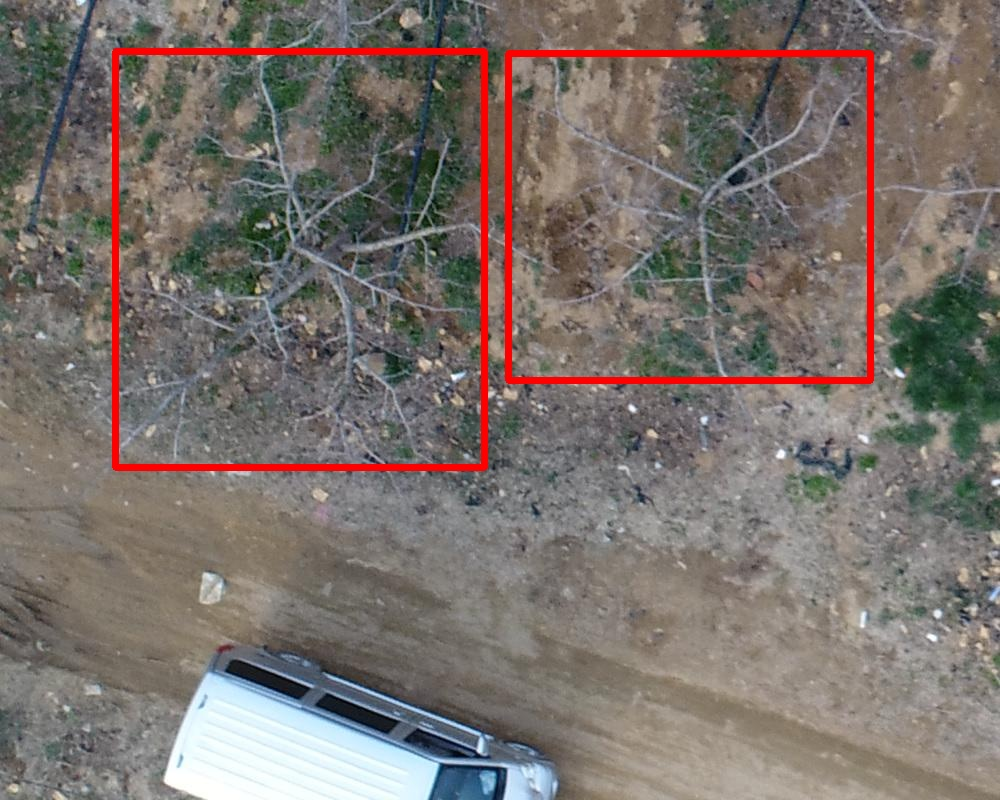apple: (115, 51, 484, 467), (508, 53, 870, 380)
